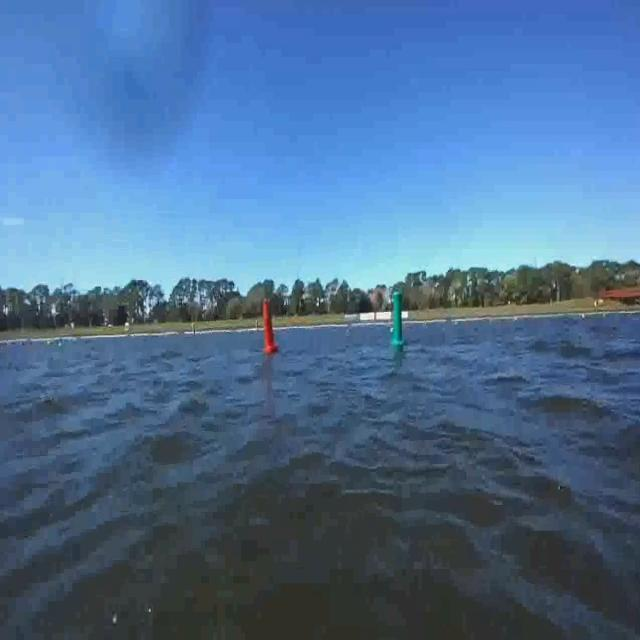green-column-buoy: (390, 292, 406, 349)
red-column-buoy: (262, 299, 279, 354)
